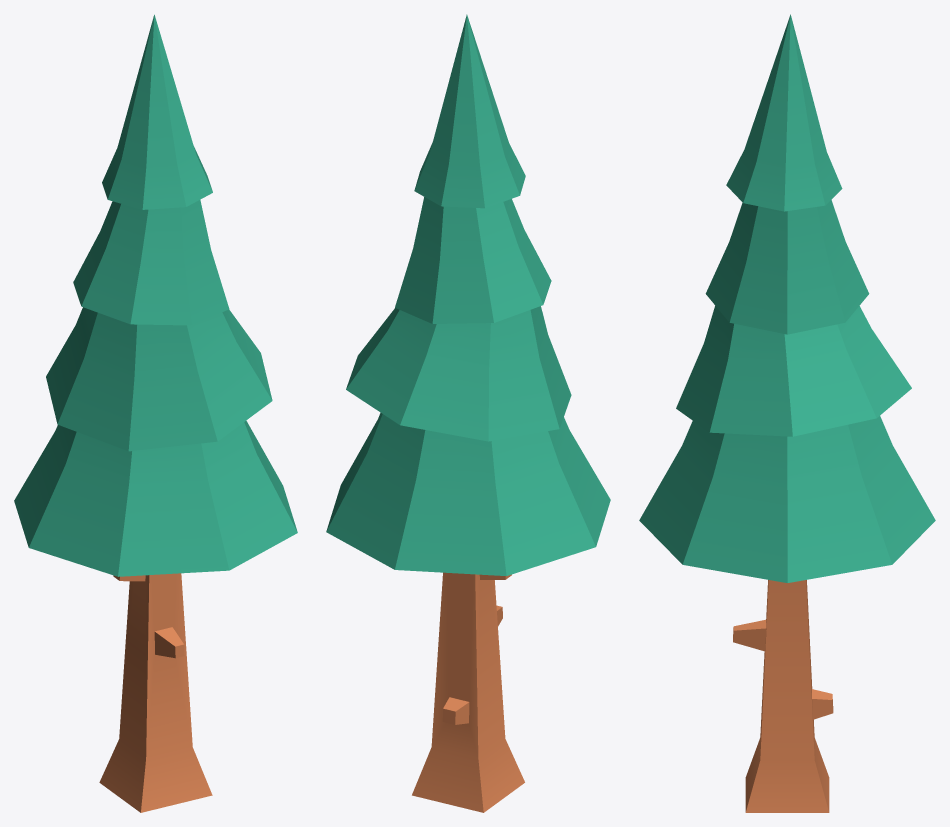
Rendered from treeHighCrooked.dae.
The picture shows the model from 3 angles, left to right: view 1: azimuth 30°, elevation 25°; view 2: azimuth 150°, elevation 25°; view 3: azimuth 270°, elevation 25°; orthographic projection.
Visible parts, largest first — view 1: treeHighCrooked; view 2: treeHighCrooked; view 3: treeHighCrooked.
Boxes of the visible parts, <box> form: treeHighCrooked: <box>14,14,297,812</box>; treeHighCrooked: <box>326,14,610,812</box>; treeHighCrooked: <box>639,14,935,812</box>.
Size of the model in its own units: 1.02 by 2.97 by 1.02.
